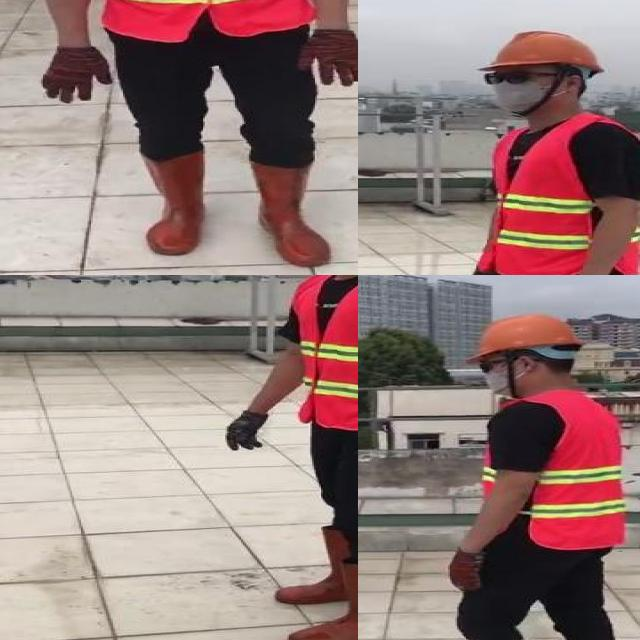boots: (249, 160, 331, 268), (132, 151, 212, 255), (276, 526, 358, 607), (287, 563, 358, 640)
face_mask: (418, 312, 630, 640), (484, 67, 550, 114), (471, 352, 521, 395)
glasses: (474, 66, 540, 88)
hand_glove: (40, 46, 112, 102), (302, 28, 358, 86), (226, 410, 268, 452), (448, 549, 484, 593)
head_helmet: (11, 0, 358, 275), (480, 30, 608, 75), (467, 312, 582, 362)
person: (397, 22, 640, 275), (212, 275, 358, 640)
vest: (481, 119, 640, 275), (486, 398, 626, 549), (292, 275, 358, 428)
